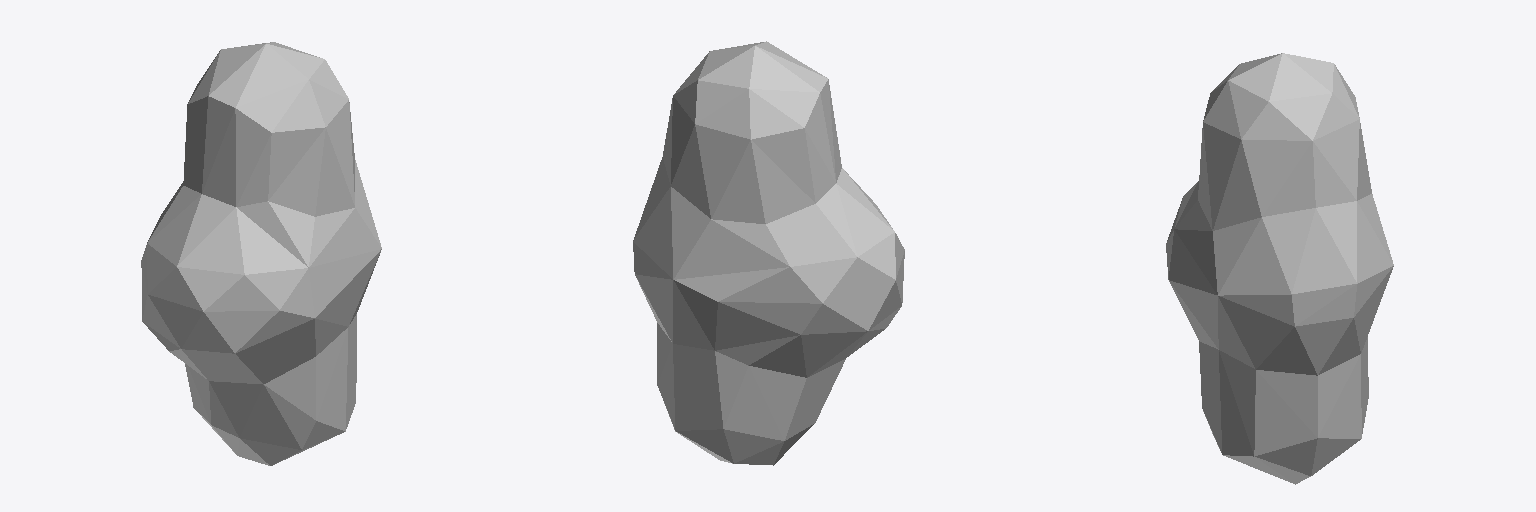
Rendered from cloud2.obj.
3 views of the same model, side by side, from view 1: azimuth 30°, elevation 25°; view 2: azimuth 150°, elevation 25°; view 3: azimuth 270°, elevation 25° (orthographic).
Parts seen in each view (by area): view 1: Cloud_Mesh.002; view 2: Cloud_Mesh.002; view 3: Cloud_Mesh.002.
Part boxes in pixels (bbox=[...]): Cloud_Mesh.002: bbox=[141, 42, 381, 465]; Cloud_Mesh.002: bbox=[633, 41, 904, 465]; Cloud_Mesh.002: bbox=[1166, 53, 1393, 484].
Size of the model in its own units: 2.67 by 4.5 by 2.23.